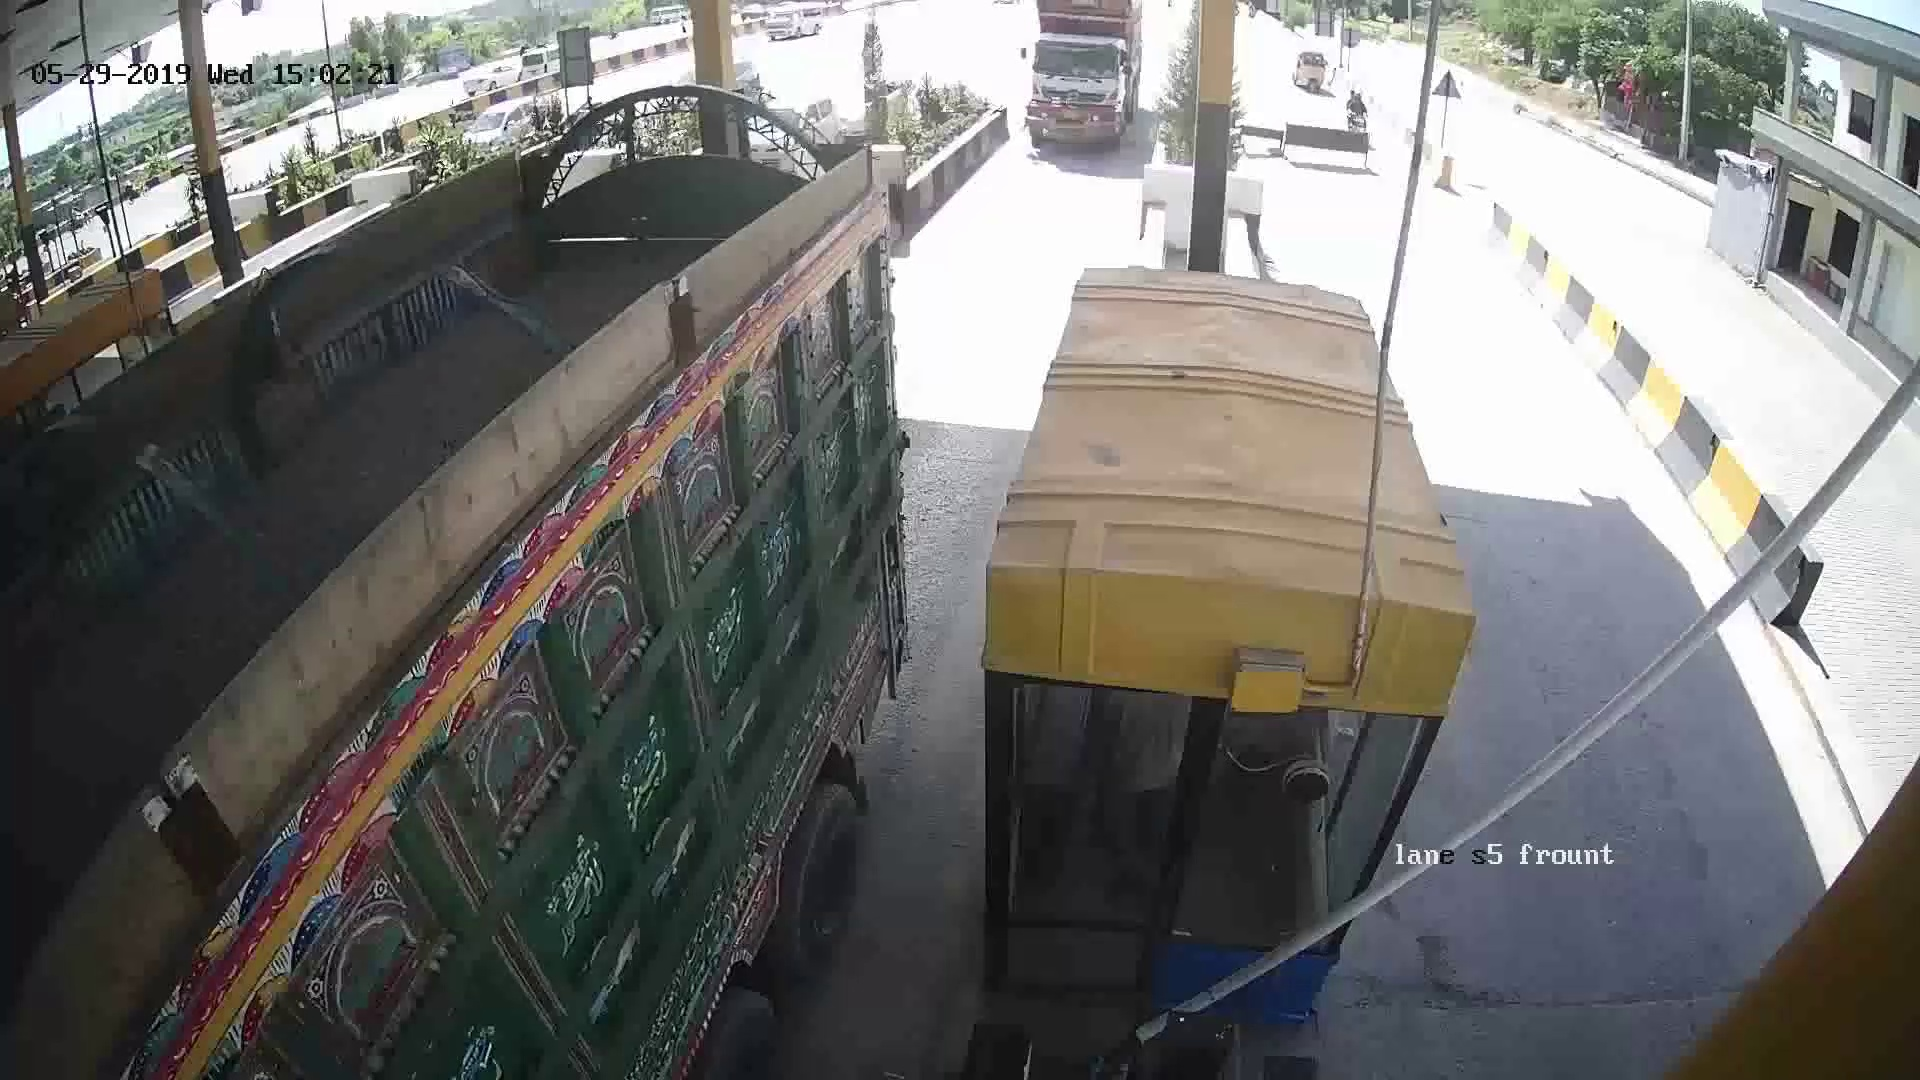truck: (225, 386, 832, 1022)
